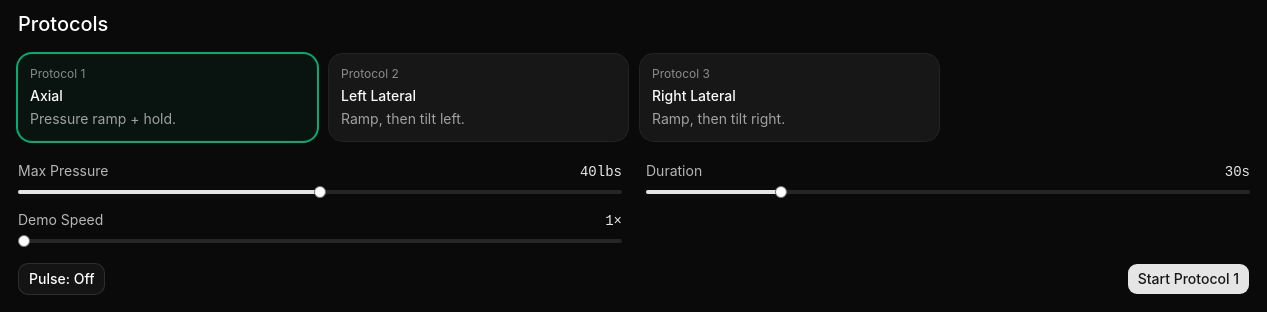
Test: ProtocolsPage › shows lateral angle sliders only for protocols that need them
Expected: the text "Max Left Angle" is not shown
Expected: the text "Max Right Angle" is not shown
Click the button "Protocol 2 Left Lateral Ramp, then tilt left.".
click(478, 98)  # box [329,54,628,141]
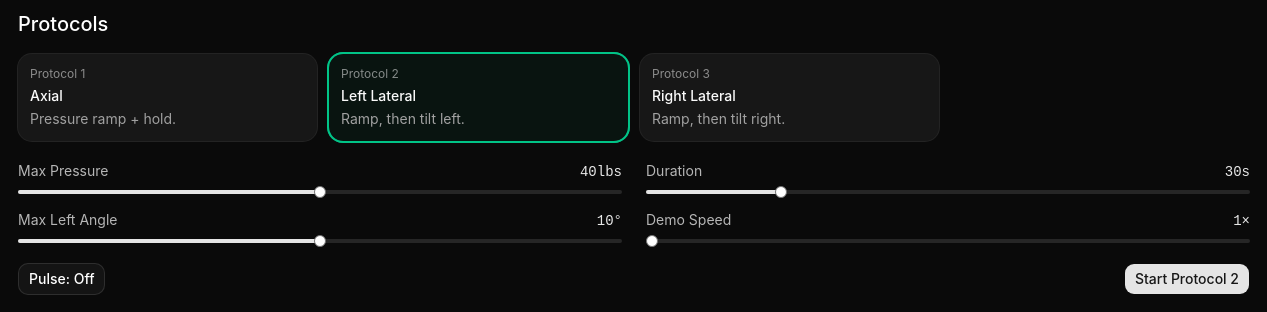
Expected: the text "Max Right Angle" is not shown
Expected: the text "Max Left Angle" is shown, [18,210,118,230]
Click the button "Protocol 3 Right Lateral Ramp, then tilt right.".
click(790, 98)  # box [640,54,939,141]
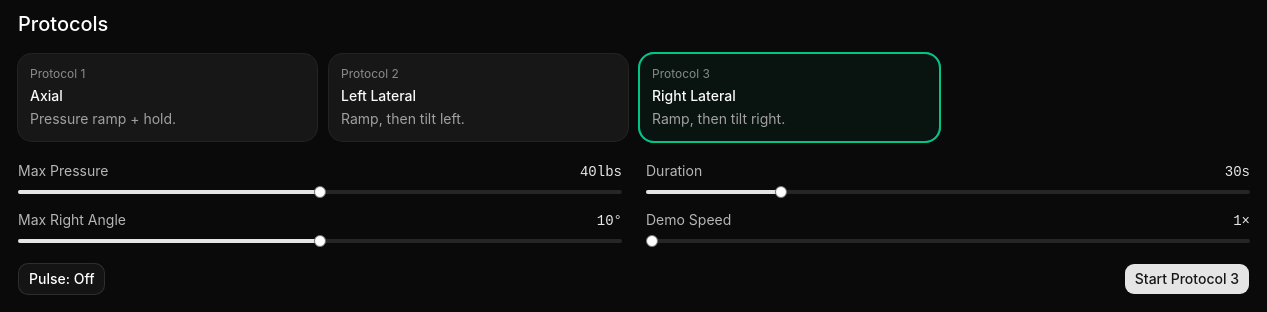
Expected: the text "Max Left Angle" is gone
Expected: the text "Max Right Angle" is shown, [18,210,126,230]
